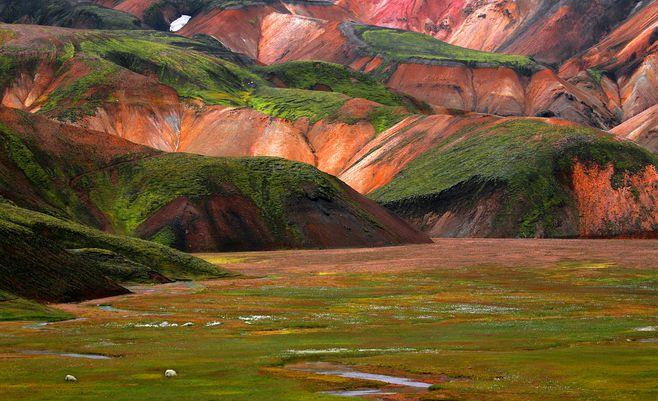sea_river: (47, 246, 629, 355)
